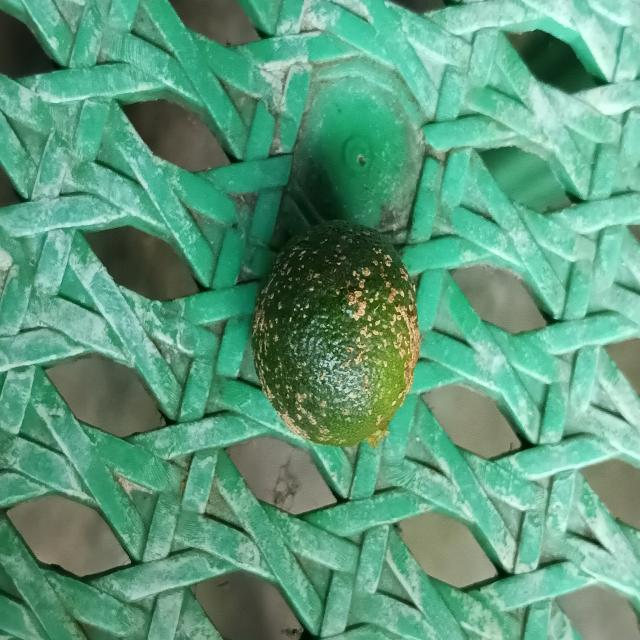scab: (247, 214, 426, 453)
